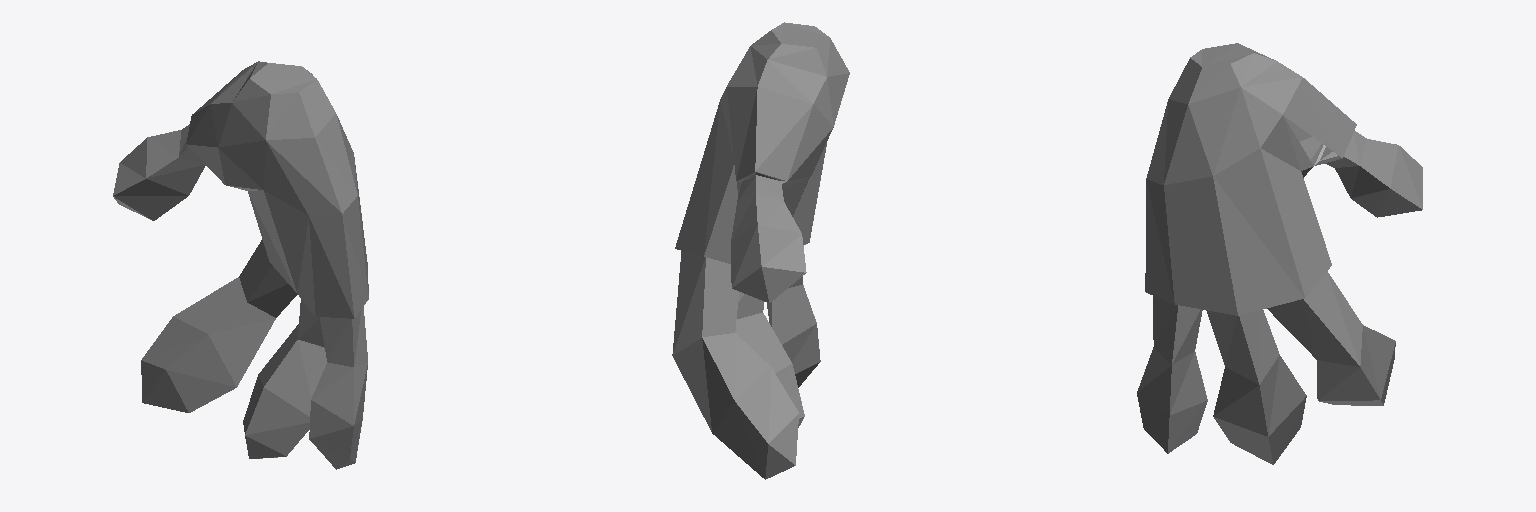
File: ManoDerecho.obj
3 renders of one model, left to right at view 1: azimuth 30°, elevation 25°; view 2: azimuth 150°, elevation 25°; view 3: azimuth 270°, elevation 25°, orthographic.
Visible parts, largest first — view 1: ManoDerecho; view 2: ManoDerecho; view 3: ManoDerecho.
Part boxes in pixels (x1,y1,x2,y2): ManoDerecho: (113, 61, 368, 469); ManoDerecho: (672, 22, 849, 479); ManoDerecho: (1137, 43, 1422, 464).
Size of the model in its own units: 5.14 by 10.96 by 7.02.